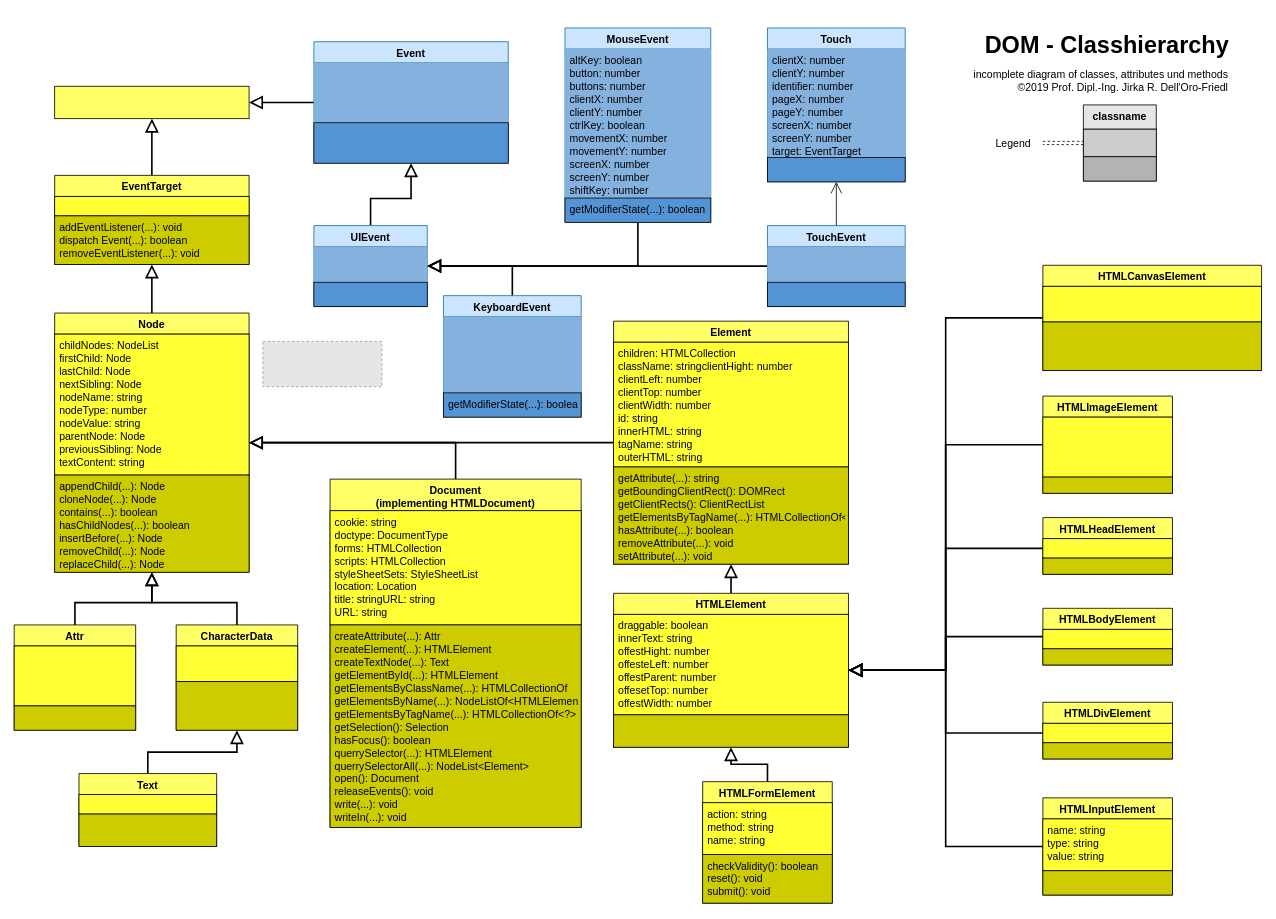
This 1276x919 diagram has some shape labels left out. Grey dashed boxes stand in for pictures. The shapes that lost their labels are listed below. From the top down, each one's centre as x and y in pixels, then its label:
the point at 151,102: Object
the point at 410,92: currentTarget: EventTarget eventPhase: number target: EventTarget type: string
the point at 410,142: preventDefault(): void stopPropagation(): void
the point at 1119,142: attributes
the point at 1119,168: methods
the point at 370,264: detail: number view: WindowProxy
the point at 836,264: targetTouches: TouchList touches: TouchList
the point at 1152,304: height: number width: number
the point at 512,354: altKey: boolean ctrlKey: boolean key: string repeat: boolean shiftKey: boolean
the point at 1152,346: getContext(...): CanvasRenderingContext toDataURL(...): string toBlob(): Blob
the point at 1107,446: complete: boolean height: number src: string width: number
the point at 74,675: name: string ownerElement: Element specified: boolean value: string
the point at 236,663: data: string length: number
the point at 236,705: appendData(...): void deleteData(...): void inseertData(...): void
the point at 730,730: click(): void focus(): void
the point at 147,804: wholeText: string
the point at 147,829: replaceWholeText(...): Text slitText(...): Text
the point at 1107,882: checkValidity(): boolean
